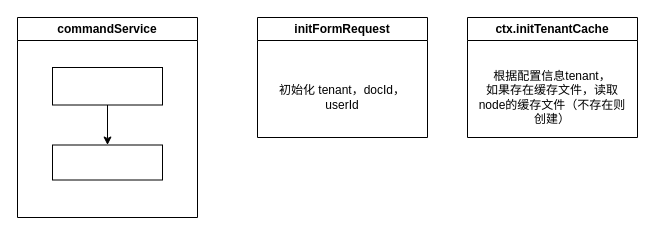
Some shapes in this 655 by 235 pixel diagram are drawn without their labels. Each missing label, with the centre of its shape:
文件大小限制: point (107, 162)
检测ip地址: point (107, 85)
